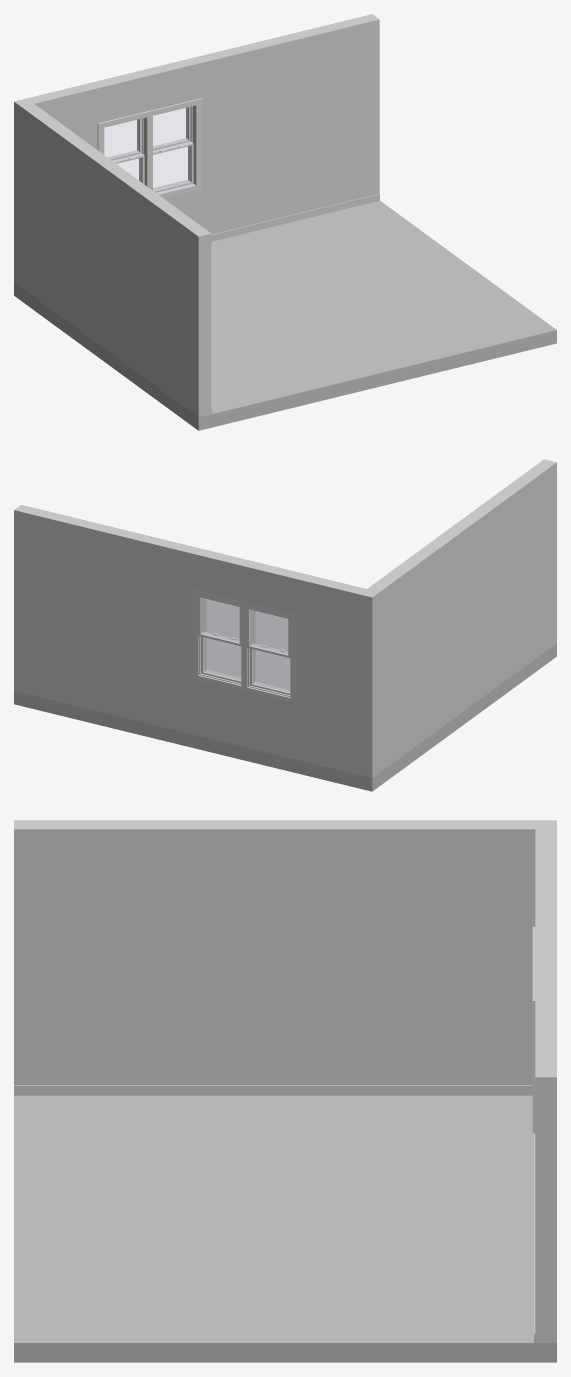
3 renders of one model, top to bottom at view 1: azimuth 30°, elevation 25°; view 2: azimuth 150°, elevation 25°; view 3: azimuth 270°, elevation 25°, orthographic. The views are drawn at different scales.
Size of the model in its own units: 224 by 116 by 200.
